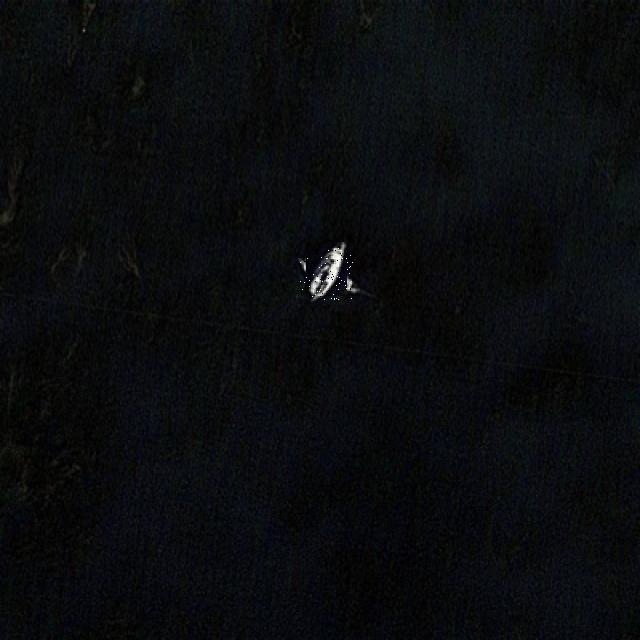boat: (300, 247, 353, 300)
